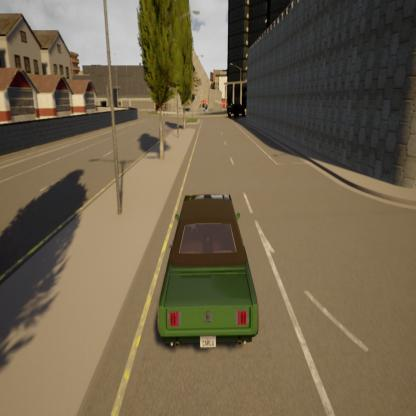Cars: (158, 192, 258, 349), (229, 105, 246, 123)
